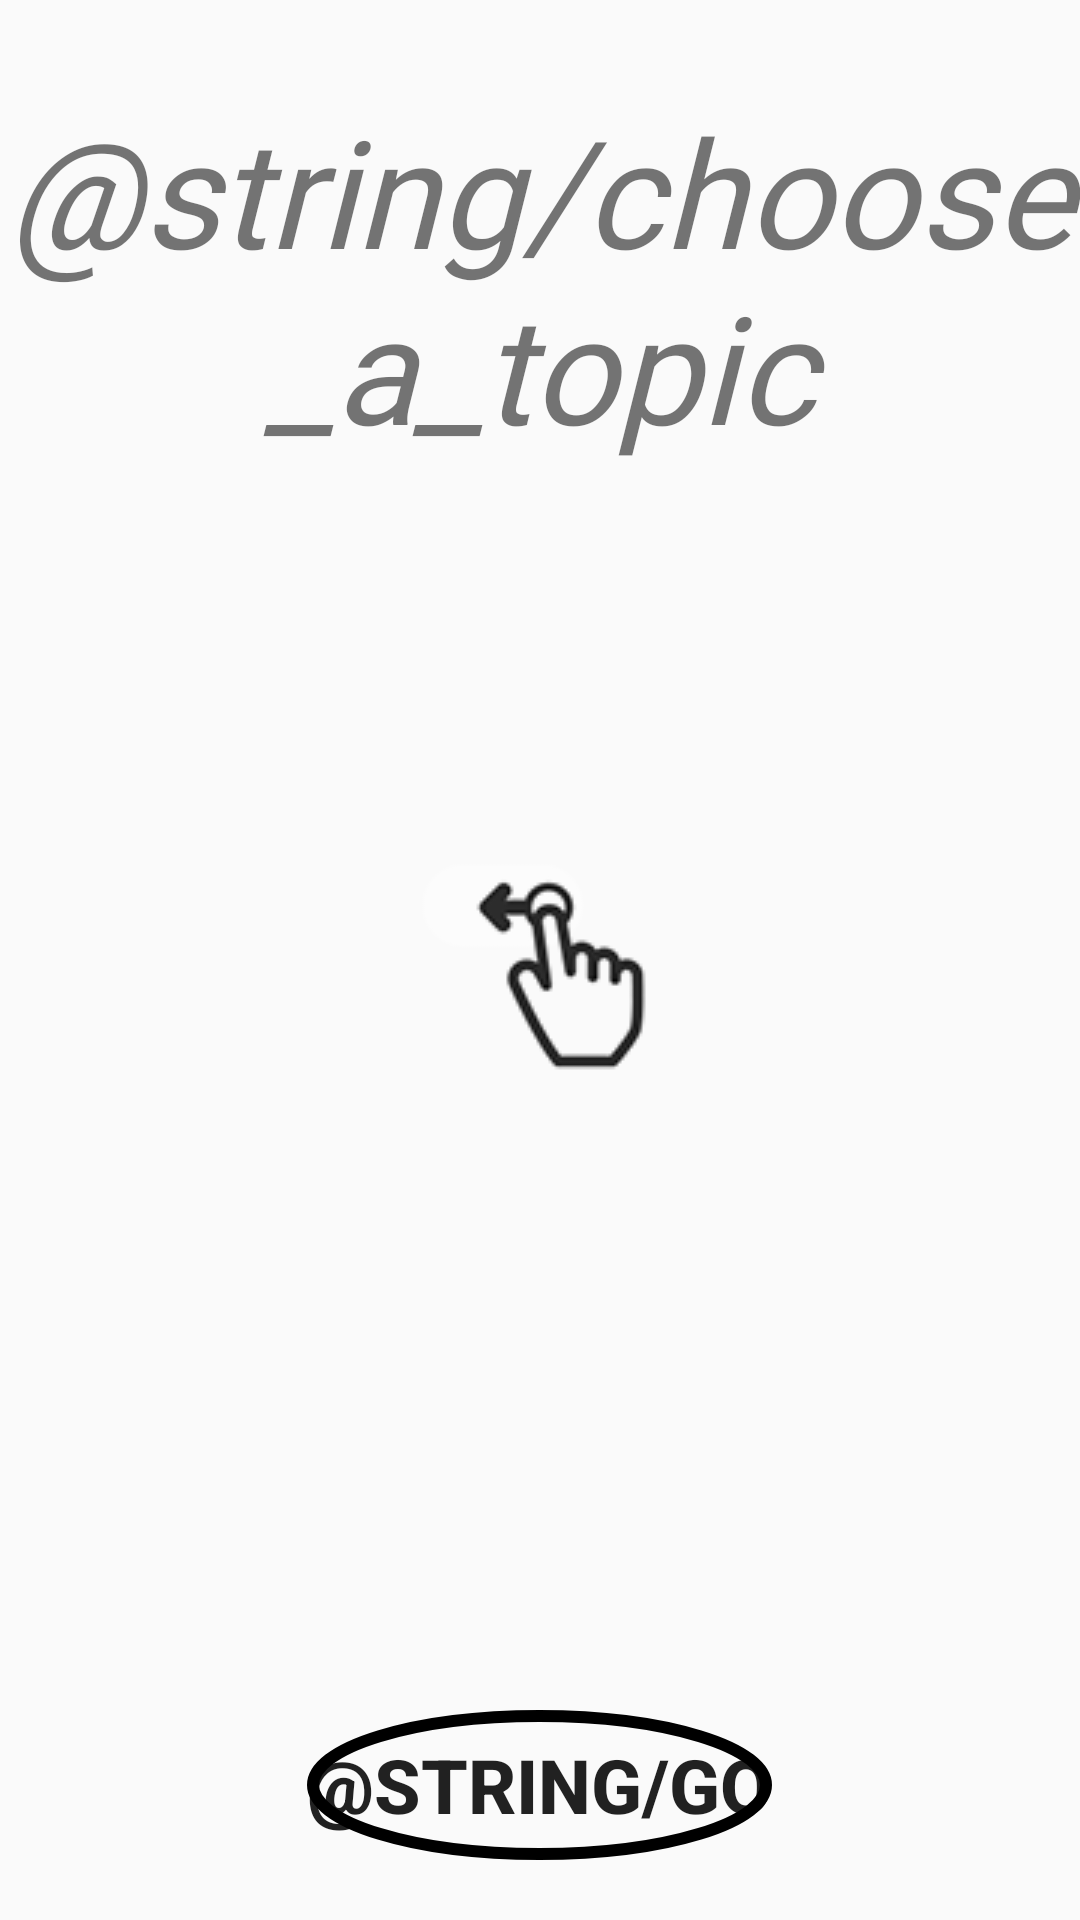

Icons on this 1080px×1920px Android screen, each with its box as (x1, y1, x2, y2):
right left: (477, 882, 646, 1069)
